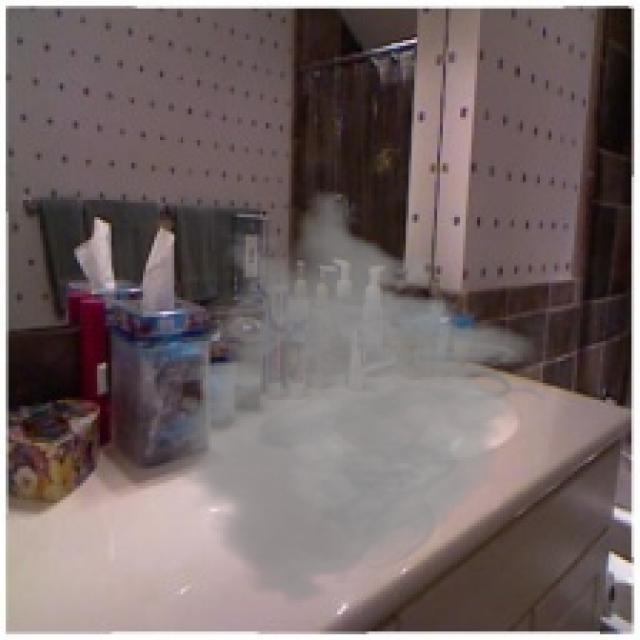Smoke: (128, 188, 552, 606)
